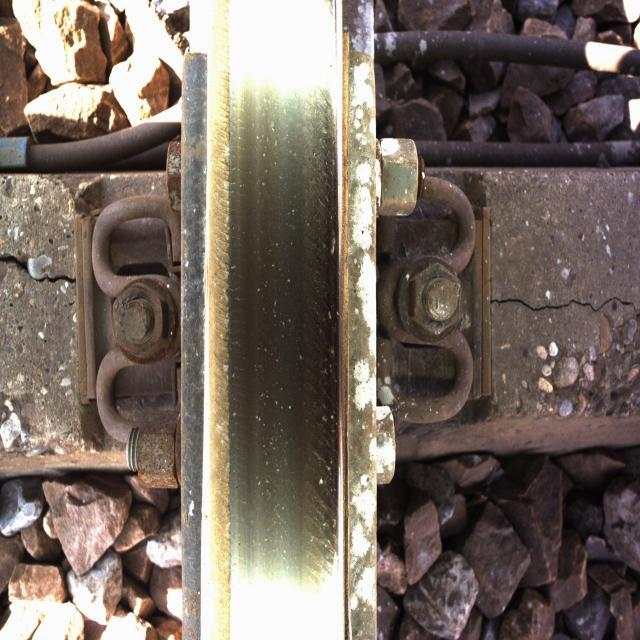scar: (327, 28, 380, 640)
